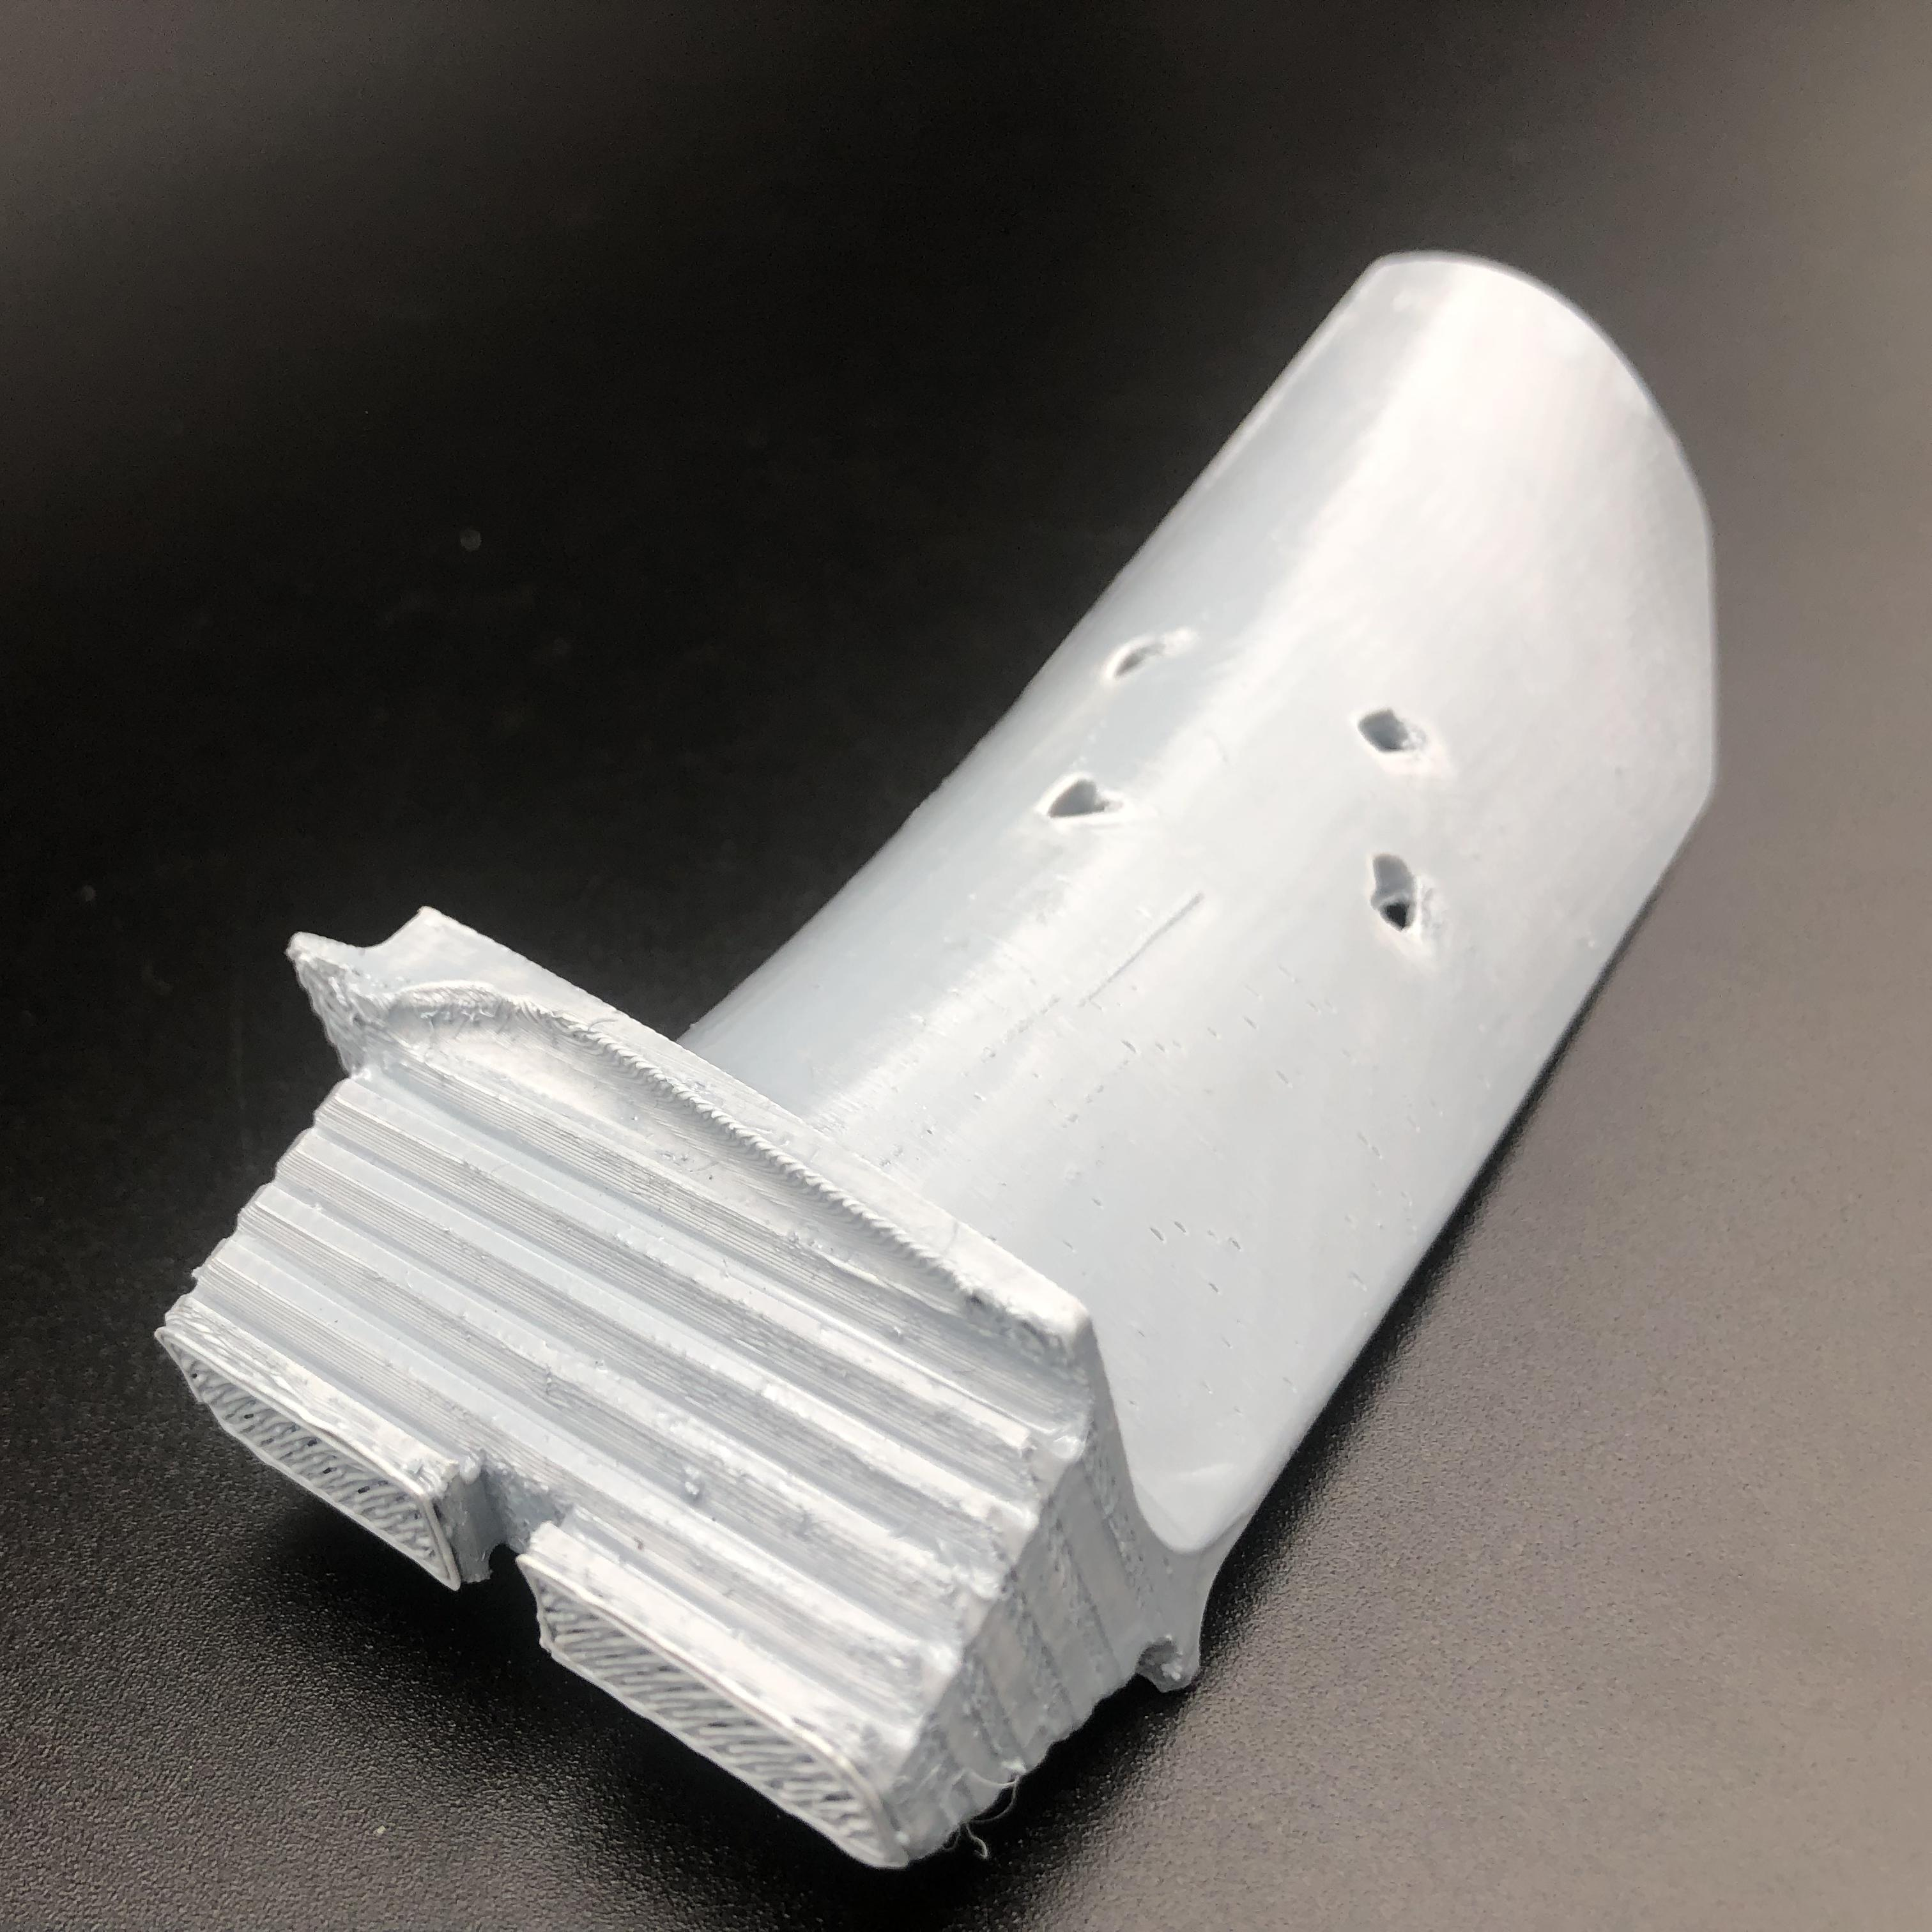breakdown: (1040, 639, 1453, 943)
